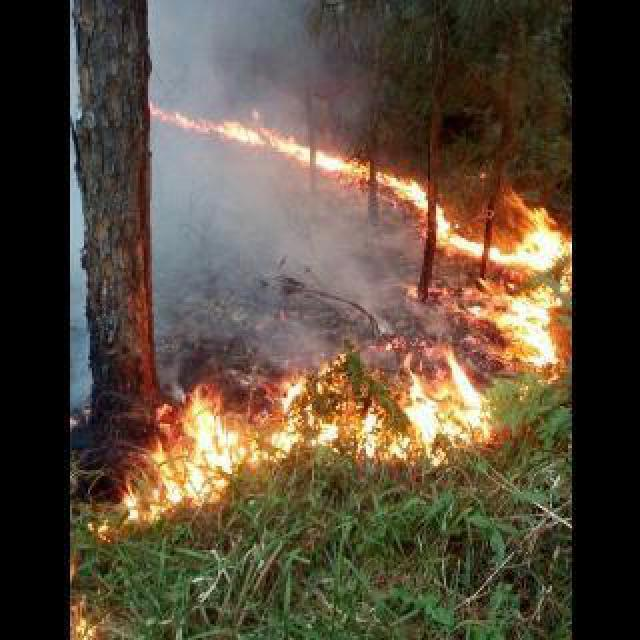Fire: (152, 102, 566, 270), (108, 380, 498, 526), (438, 280, 560, 374)
Smoke: (152, 168, 390, 360), (146, 0, 392, 102)
